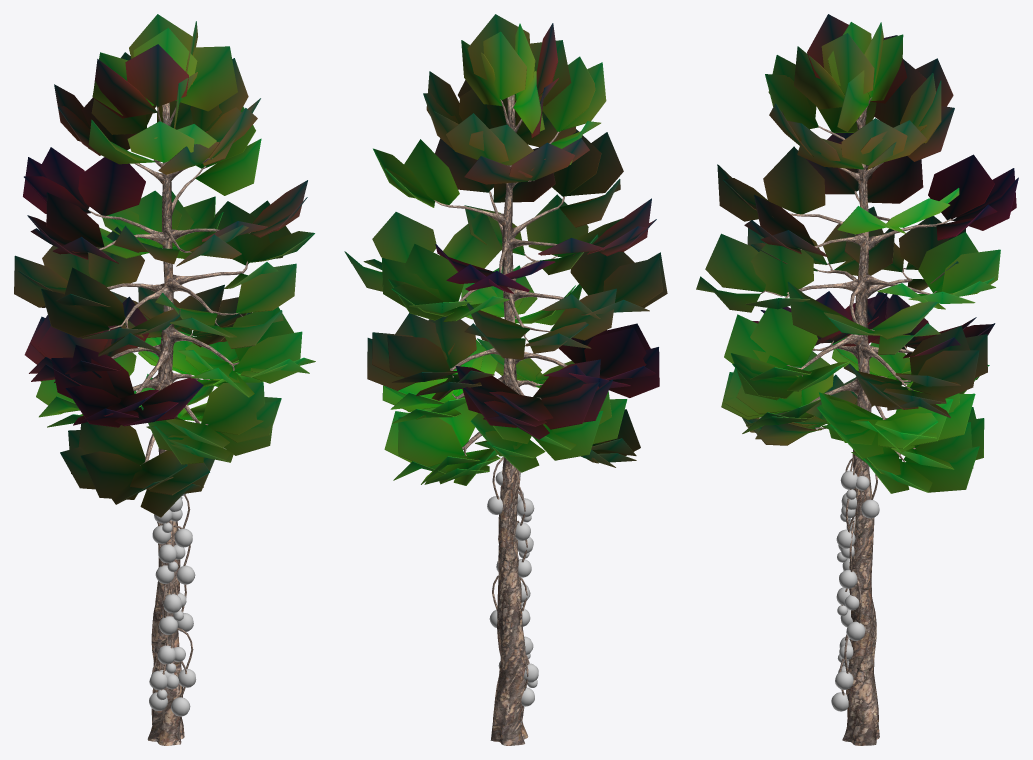
Rendered from sal_tree.fbx.
The picture shows the model from 3 angles, left to right: view 1: azimuth 30°, elevation 25°; view 2: azimuth 150°, elevation 25°; view 3: azimuth 270°, elevation 25°; orthographic projection.
Parts seen in each view (by area): view 1: Tree_1, Tree_0; view 2: Tree_1, Tree_0; view 3: Tree_1, Tree_0.
Boxes of the visible parts, x1=… form: Tree_1: x1=14, y1=14, x2=315, y2=517; Tree_0: x1=87, y1=102, x2=250, y2=745; Tree_1: x1=344, y1=14, x2=667, y2=485; Tree_0: x1=434, y1=94, x2=567, y2=745; Tree_1: x1=696, y1=14, x2=1018, y2=493; Tree_0: x1=760, y1=97, x2=953, y2=745.
Size of the model in its own units: 298 by 724 by 296.
